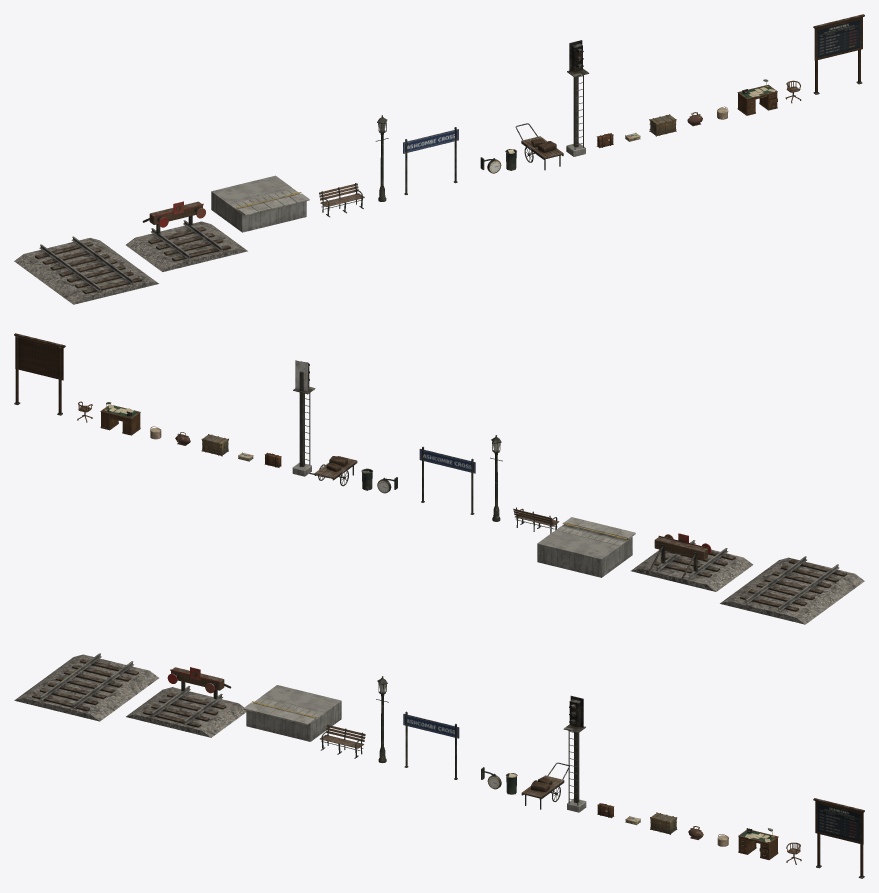
The model's file is Station_All.fbx.
The picture shows the model from 3 angles, top to bottom: view 1: azimuth 30°, elevation 25°; view 2: azimuth 150°, elevation 25°; view 3: azimuth 330°, elevation 25°; orthographic projection.
Visible parts, largest first — view 1: RailTrack, BufferStop, PlatformEdge, DeparturesBoard, RailSignal, StationSign, StationDesk, PlatformBench, LuggageTrolley; view 2: RailTrack, PlatformEdge, BufferStop, DeparturesBoard, RailSignal, StationDesk, StationSign, LuggageTrolley; view 3: RailTrack, BufferStop, PlatformEdge, DeparturesBoard, RailSignal, StationDesk, StationSign, PlatformBench, LuggageTrolley, SteamerTrunk.
Boxes of the visible parts, bbox=[...] form: RailTrack: bbox=[14, 236, 158, 304]; BufferStop: bbox=[126, 201, 247, 271]; PlatformEdge: bbox=[211, 175, 309, 232]; DeparturesBoard: bbox=[813, 14, 864, 94]; RailSignal: bbox=[566, 40, 589, 156]; StationSign: bbox=[403, 127, 458, 194]; StationDesk: bbox=[737, 79, 777, 115]; PlatformBench: bbox=[319, 183, 364, 217]; LuggageTrolley: bbox=[515, 123, 563, 170]; RailTrack: bbox=[720, 556, 864, 624]; PlatformEdge: bbox=[537, 517, 635, 577]; BufferStop: bbox=[631, 533, 753, 591]; DeparturesBoard: bbox=[14, 333, 65, 415]; RailSignal: bbox=[292, 360, 315, 476]; StationDesk: bbox=[100, 402, 140, 435]; StationSign: bbox=[419, 446, 475, 514]; LuggageTrolley: bbox=[309, 456, 357, 486]; RailTrack: bbox=[14, 653, 158, 721]; BufferStop: bbox=[126, 667, 246, 737]; PlatformEdge: bbox=[243, 685, 341, 741]; DeparturesBoard: bbox=[813, 798, 864, 878]; RailSignal: bbox=[563, 695, 586, 812]; StationDesk: bbox=[738, 828, 778, 859]; StationSign: bbox=[403, 711, 459, 779]; PlatformBench: bbox=[320, 724, 365, 758]; LuggageTrolley: bbox=[521, 762, 569, 809]; SteamerTrunk: bbox=[650, 812, 677, 834].
Size of the model in its own units: 115 by 14.88 by 15.15.
Materials: 18 (18 with a texture image).
